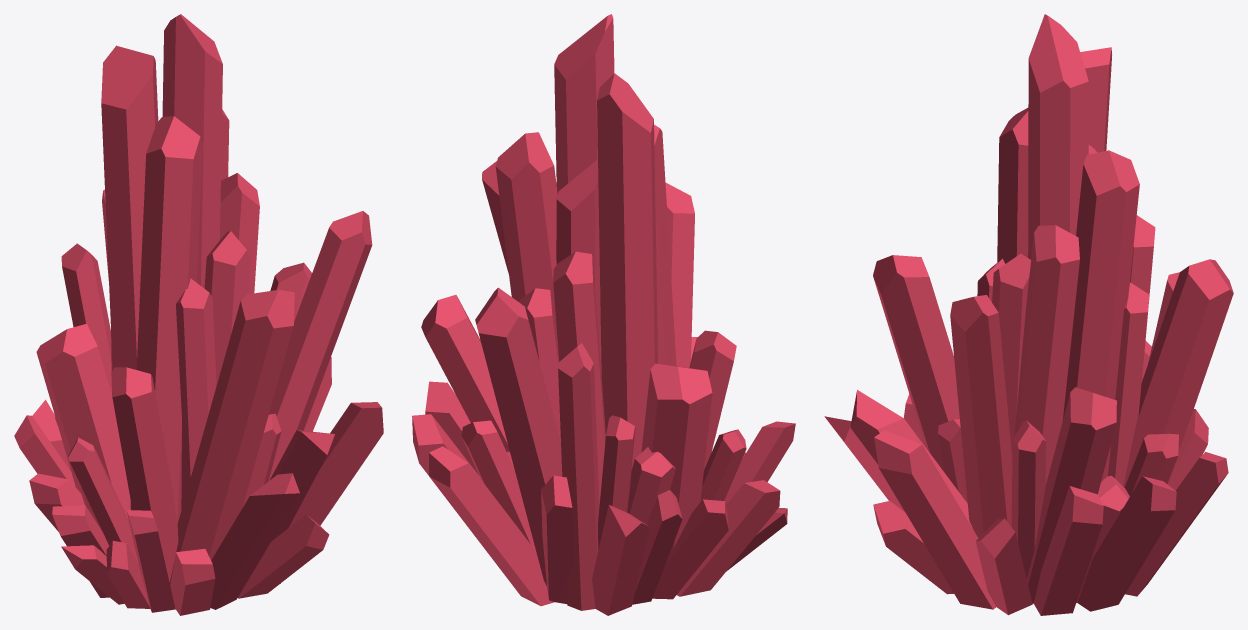
The model's file is SM_Crystal_Big_3.fbx.
3 views of the same model, side by side, from view 1: azimuth 30°, elevation 25°; view 2: azimuth 150°, elevation 25°; view 3: azimuth 270°, elevation 25° (orthographic).
Parts seen in each view (by area): view 1: SM_Crystal_Big_3; view 2: SM_Crystal_Big_3; view 3: SM_Crystal_Big_3.
Boxes of the visible parts, bbox=[...] form: SM_Crystal_Big_3: bbox=[14, 14, 383, 615]; SM_Crystal_Big_3: bbox=[412, 14, 795, 615]; SM_Crystal_Big_3: bbox=[824, 14, 1233, 615].
Bounding box in the file's own units: 569 × 964 × 636.
